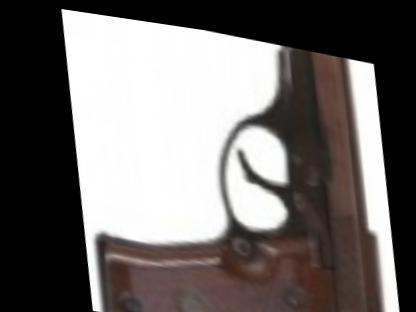pistol: (60, 7, 405, 311)
